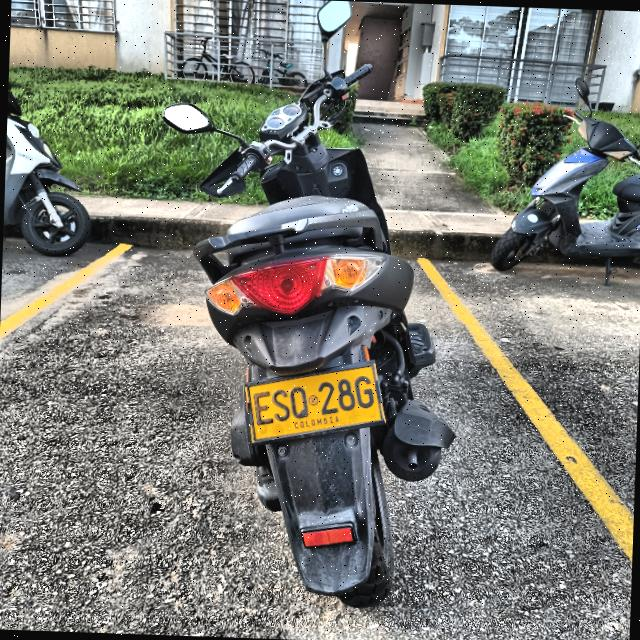2: (316, 379, 339, 416)
8: (333, 376, 357, 413)
E: (251, 389, 275, 426)
G: (352, 373, 376, 410)
Q: (287, 384, 310, 420)
S: (269, 387, 292, 424)
